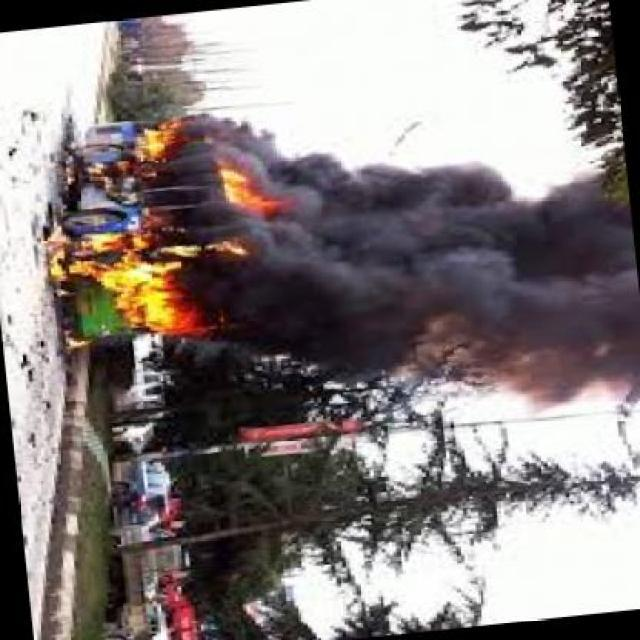Fire: (46, 234, 207, 337), (220, 167, 280, 224), (138, 118, 182, 170)
Smoke: (287, 138, 640, 416), (217, 262, 282, 362)
